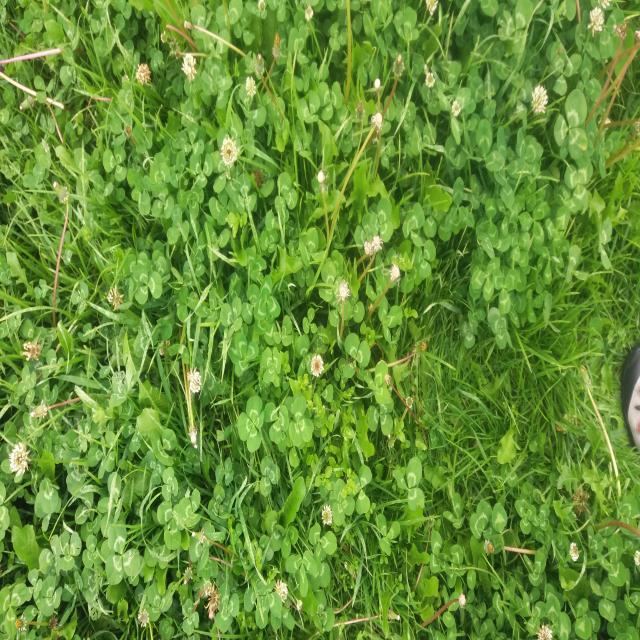Four Leaf Clover: (237, 395, 265, 453)
